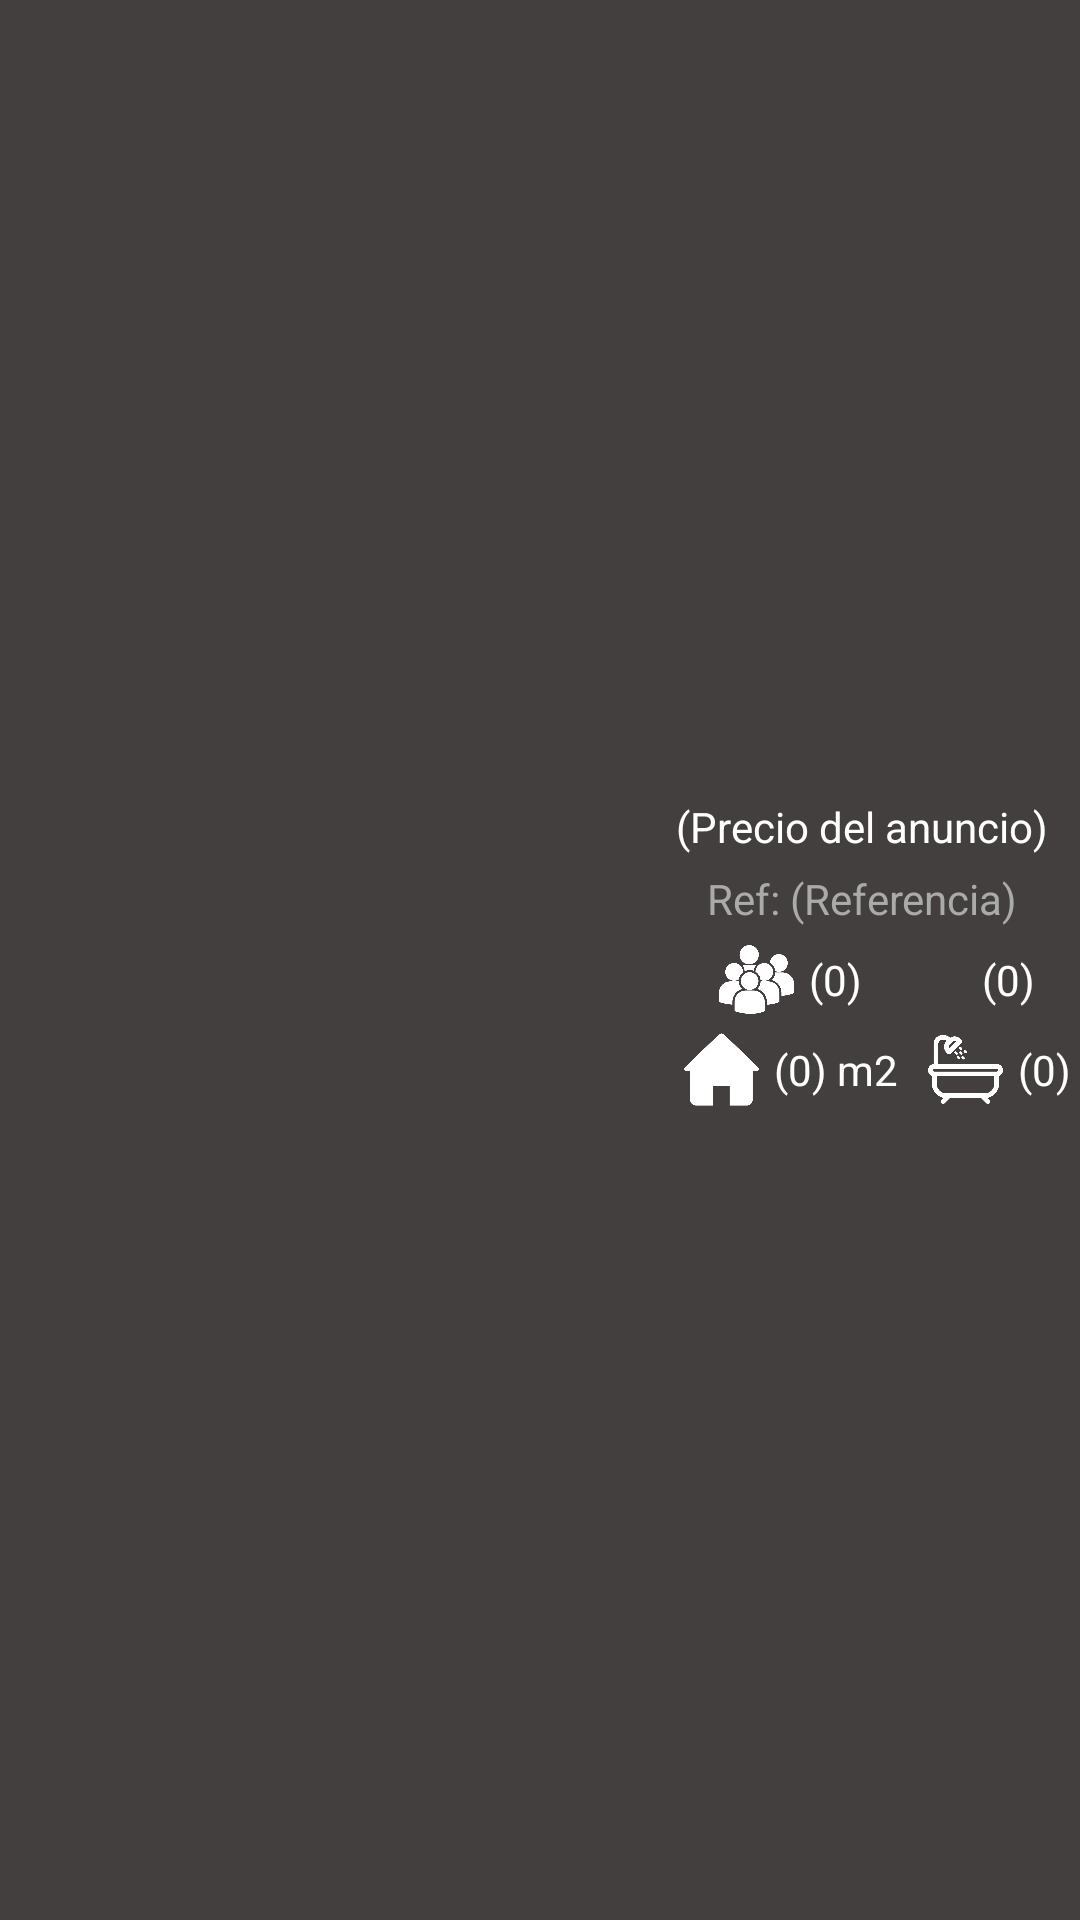

Icons on this 1080px×1920px Android screen, each with the point to tap as (x=x, y=y):
bano: (x=965, y=1069)
casa: (x=721, y=1069)
personas: (x=756, y=979)
